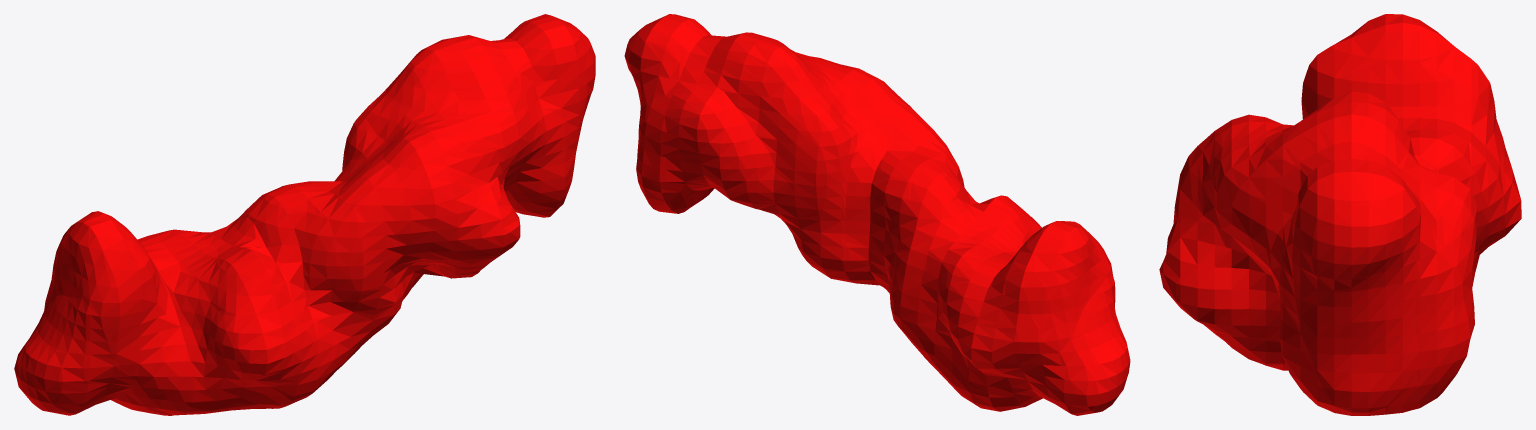
Rendered from Cystatin_C_Cystatin_3_coarse.dae.
3 views of the same model, side by side, from view 1: azimuth 30°, elevation 25°; view 2: azimuth 150°, elevation 25°; view 3: azimuth 270°, elevation 25° (orthographic). The views are drawn at different scales.
Visible parts, largest first — view 1: Cystatin_C_Cystatin_3; view 2: Cystatin_C_Cystatin_3; view 3: Cystatin_C_Cystatin_3.
Boxes of the visible parts, <box> form: Cystatin_C_Cystatin_3: <box>14,14,595,415</box>; Cystatin_C_Cystatin_3: <box>624,14,1130,415</box>; Cystatin_C_Cystatin_3: <box>1159,14,1521,415</box>.
Bounding box in the file's own units: 93.62 × 51.06 × 39.72.
